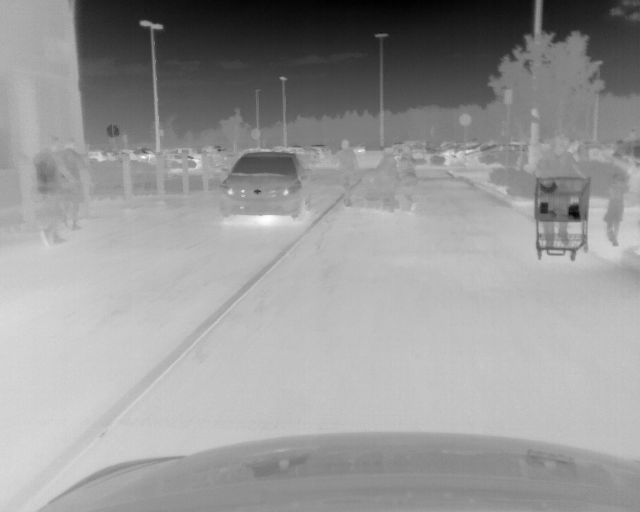car: (217, 152, 311, 221)
people: (537, 137, 578, 247), (33, 137, 67, 246), (59, 137, 85, 231), (331, 139, 359, 207), (600, 175, 623, 247), (396, 147, 417, 212), (378, 147, 396, 213)
